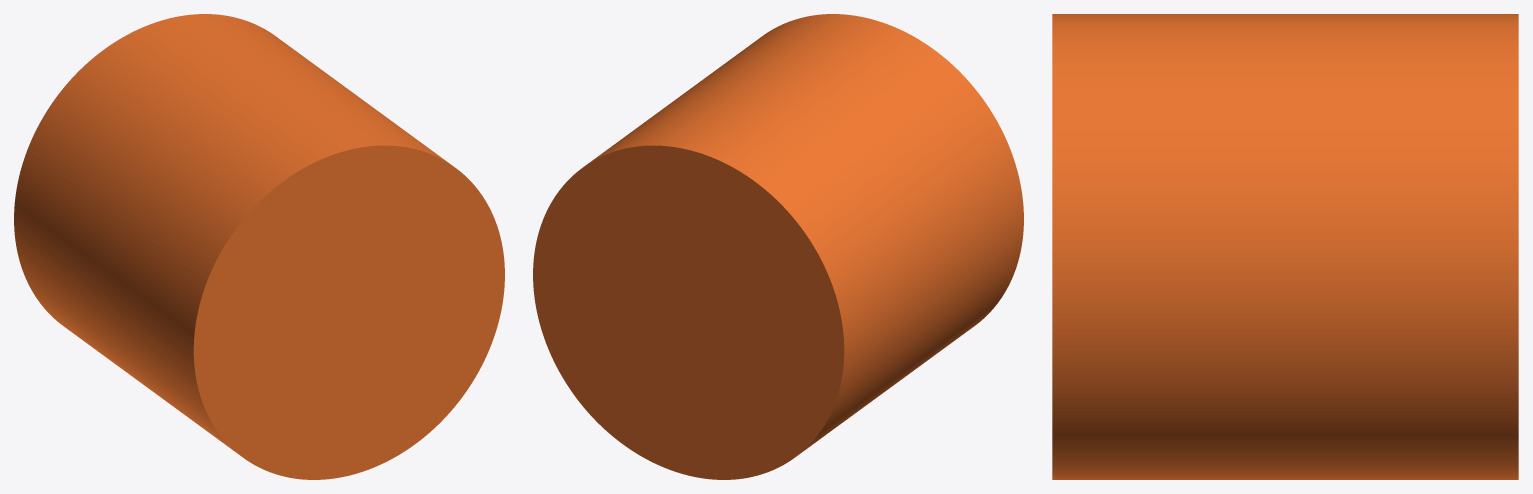
3 renders of one model, left to right at view 1: azimuth 30°, elevation 25°; view 2: azimuth 150°, elevation 25°; view 3: azimuth 270°, elevation 25°, orthographic. The views are drawn at different scales.
Parts seen in each view (by area): view 1: Cylinder; view 2: Cylinder; view 3: Cylinder.
Boxes of the visible parts, box(x1,y1,x2,y2) form: Cylinder: box(14, 14, 504, 479); Cylinder: box(533, 14, 1023, 479); Cylinder: box(1052, 14, 1518, 479).
Size of the model in its own units: 1 by 1 by 1.
